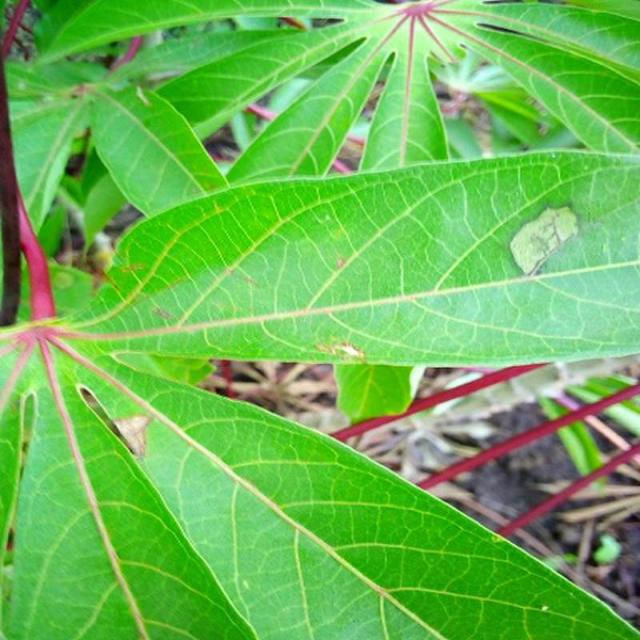cassava leaf: (0, 1, 639, 638), (95, 145, 640, 374)
